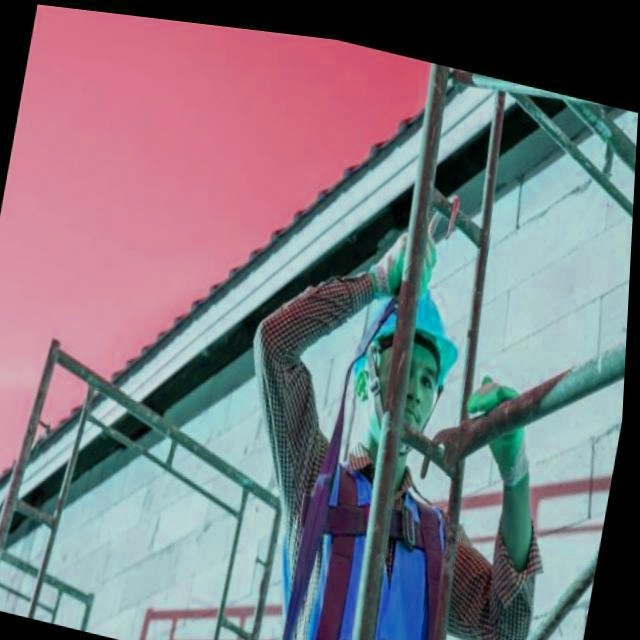safety belt: (295, 458, 469, 639)
